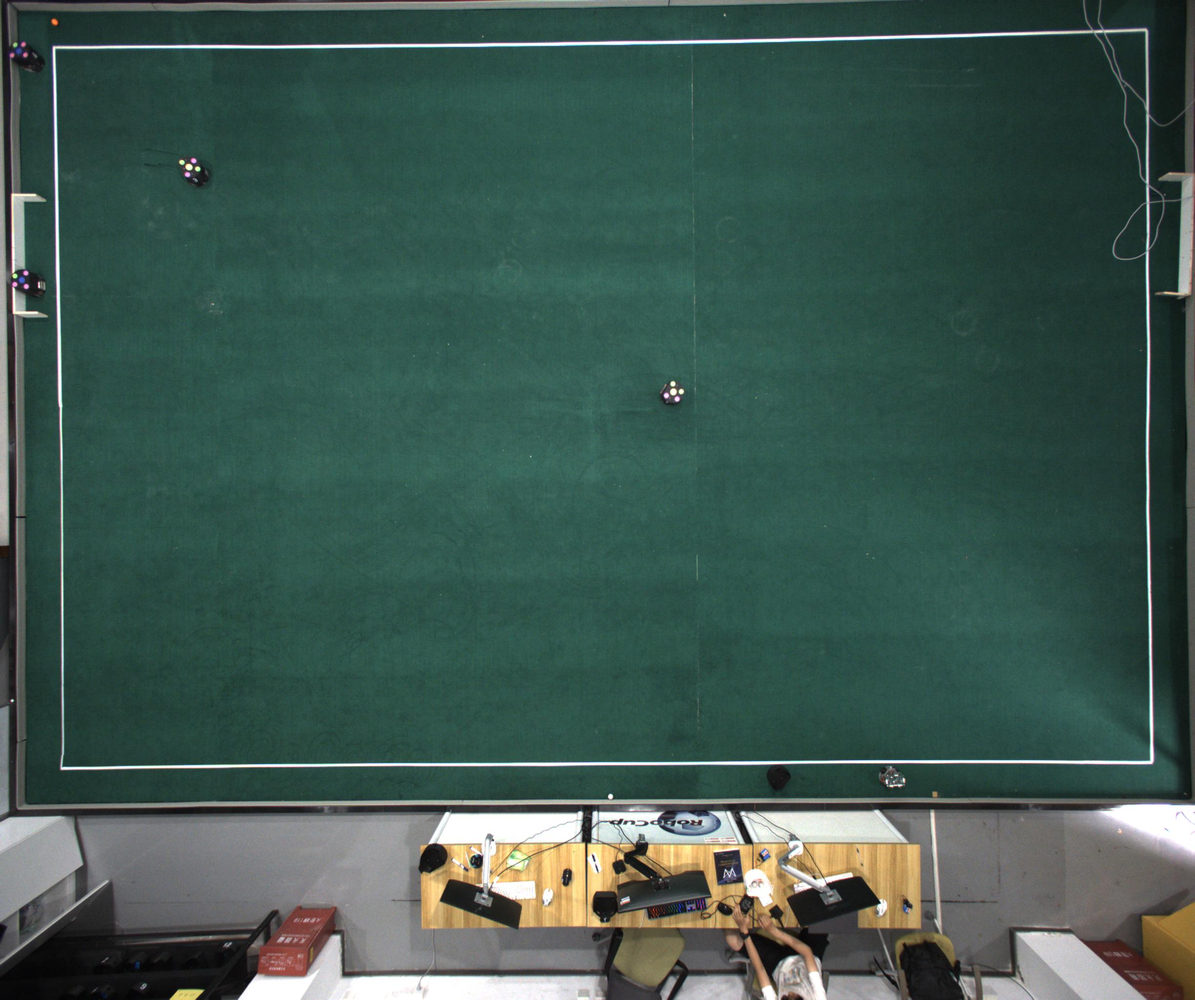ball: (51, 19, 59, 26)
blue_bot: (11, 269, 32, 291), (9, 41, 28, 60)
yellow_bot: (663, 380, 685, 404), (179, 157, 202, 179)
